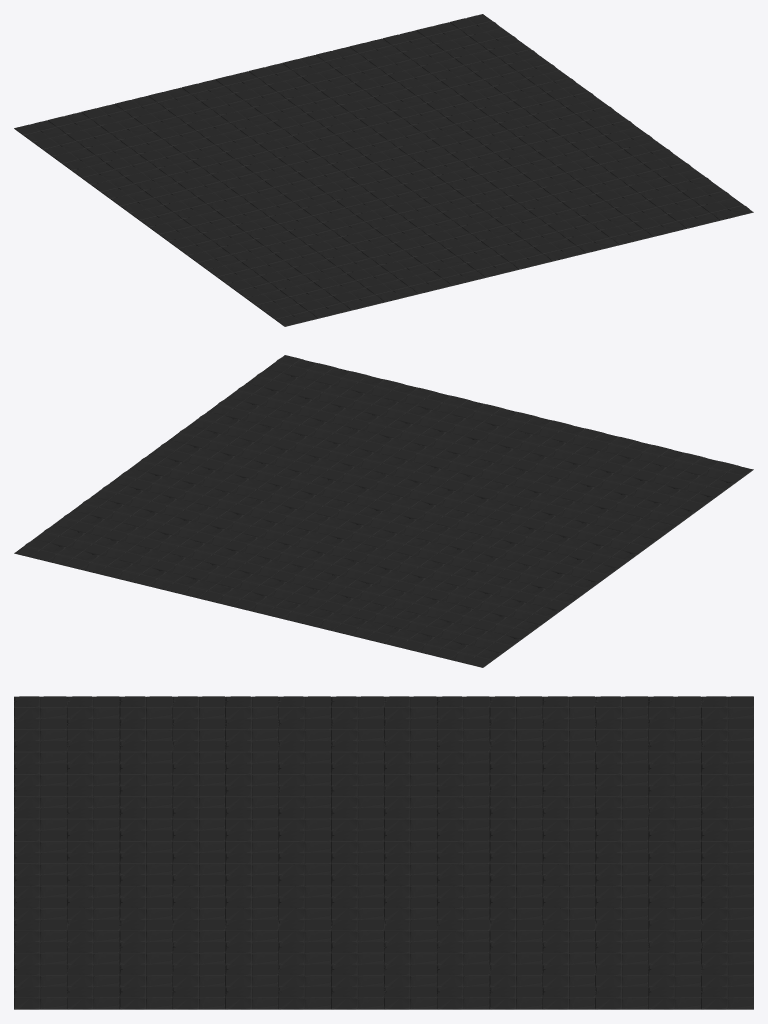
File: test_room_7x7.obj
3 views of the same model, one above another, from view 1: azimuth 30°, elevation 25°; view 2: azimuth 150°, elevation 25°; view 3: azimuth 270°, elevation 25° (orthographic). The views are drawn at different scales.
Visible parts, largest first — view 1: floor_tile_set.023; view 2: floor_tile_set.023; view 3: floor_tile_set.023.
Part boxes in pixels (x1,y1,x2,y2): floor_tile_set.023: (14, 14, 753, 326); floor_tile_set.023: (14, 355, 753, 667); floor_tile_set.023: (14, 696, 753, 1009).
Bounding box in the file's own units: 35 × 0.0741 × 35.
